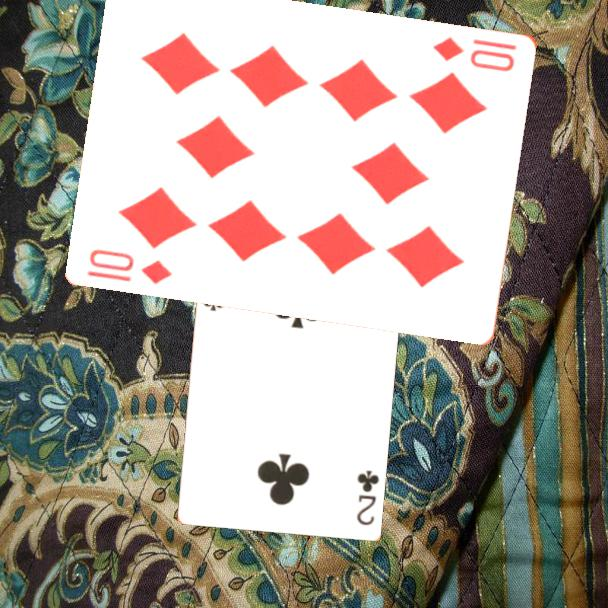c02: (353, 466, 382, 528)
d10: (84, 245, 176, 287), (430, 32, 518, 74)
